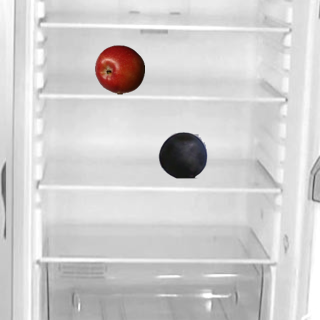Apple Braeburn: (94, 44, 144, 94)
Grape Blue: (157, 129, 207, 179)
